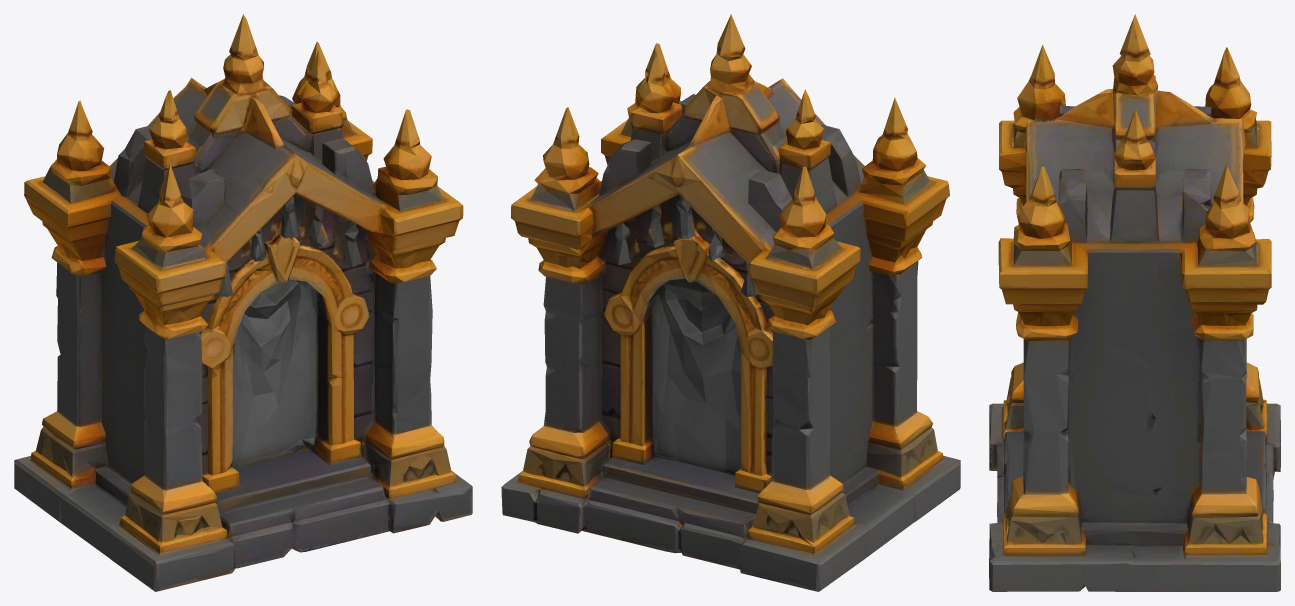
Rendered from fantasy_archway.glb.
3 renders of one model, left to right at view 1: azimuth 30°, elevation 25°; view 2: azimuth 150°, elevation 25°; view 3: azimuth 270°, elevation 25°, orthographic. The views are drawn at different scales.
Bounding box in the file's own units: 1.36 × 1.99 × 1.05.
1 material, 1 textured.
